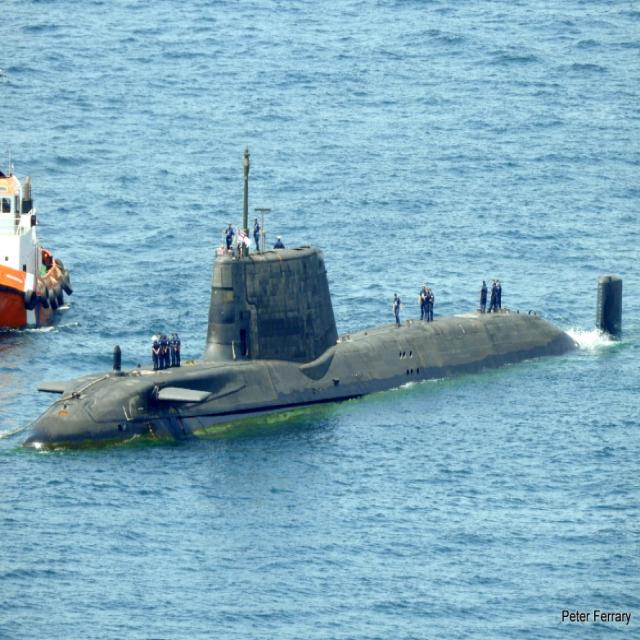submarine: (29, 143, 633, 451)
